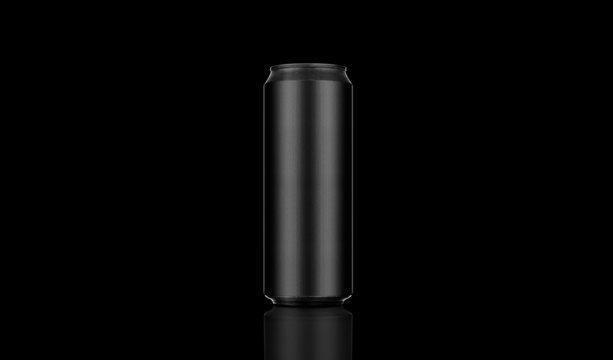tin can: (260, 59, 358, 309)
